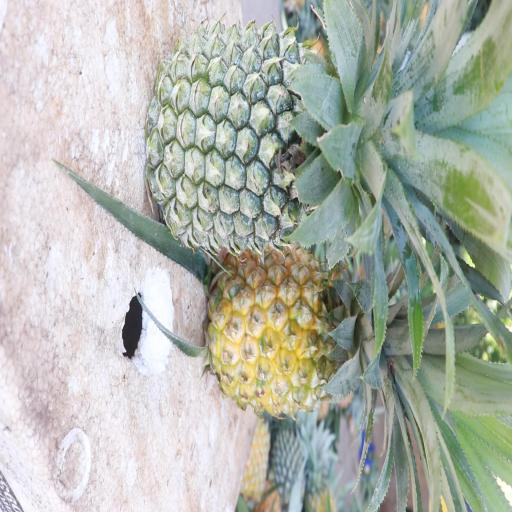Pineapple - v8 v1: (210, 247, 459, 500)
